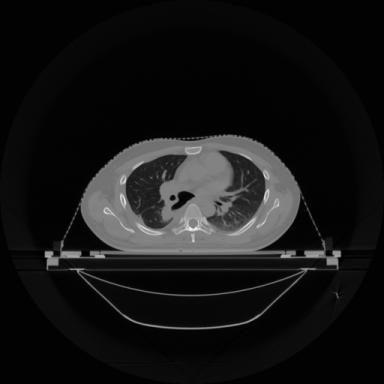body: (81, 135, 300, 252)
cord: (172, 204, 214, 242)
paru kanan: (126, 155, 187, 228)
paru kiri: (208, 151, 265, 231)
